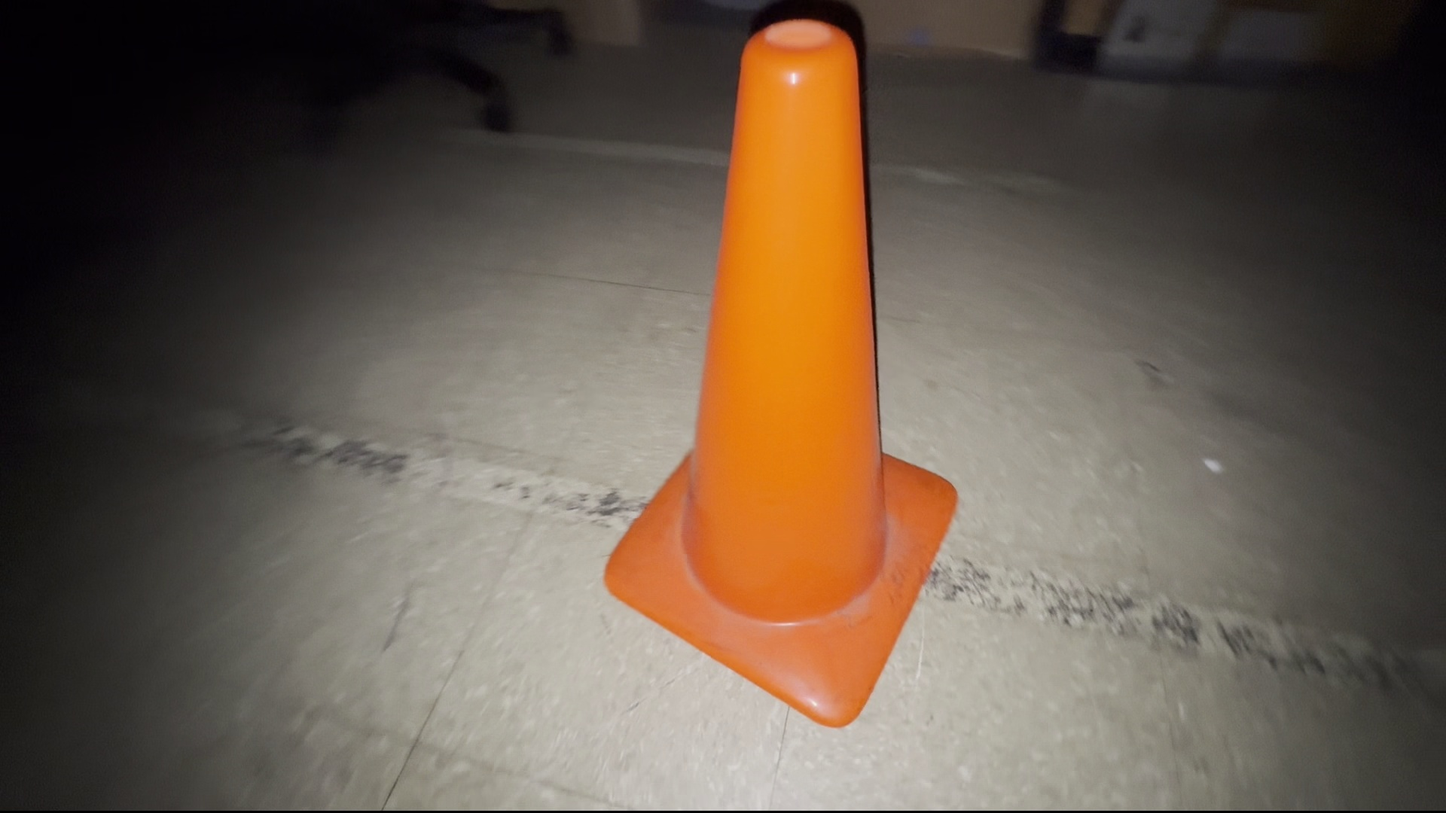traffic_cone: (602, 17, 959, 729)
